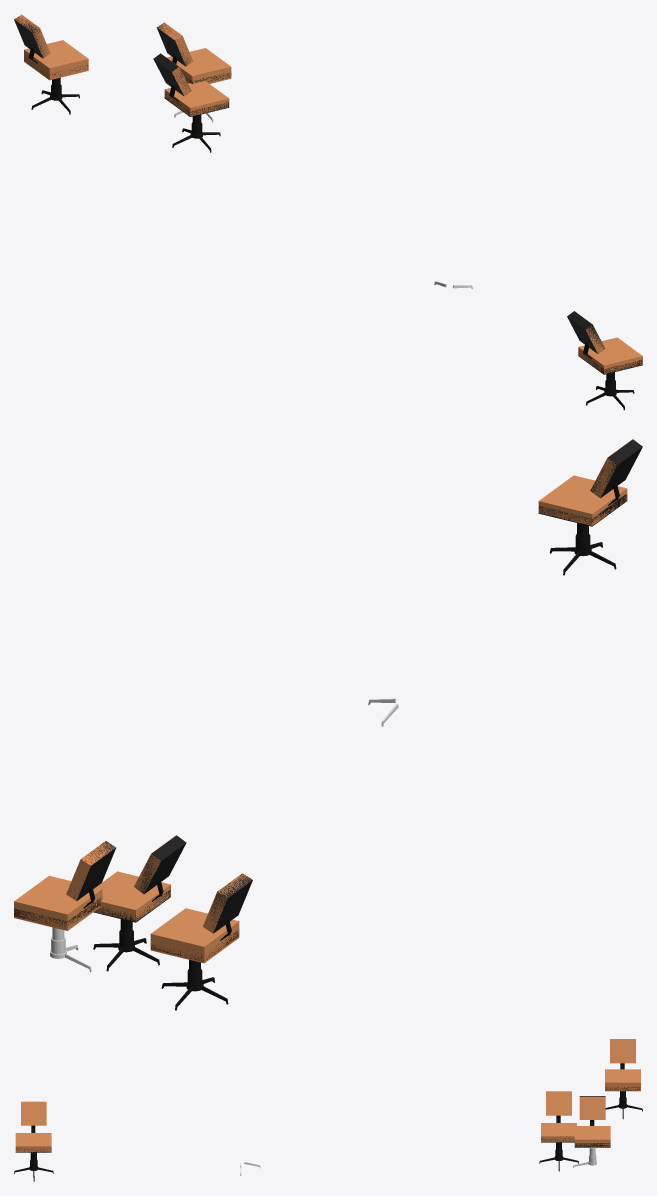
Rendered from kursi lab.glb.
The picture shows the model from 3 angles, top to bottom: view 1: azimuth 30°, elevation 25°; view 2: azimuth 150°, elevation 25°; view 3: azimuth 270°, elevation 25°; orthographic projection. The views are drawn at different scales.
Parts seen in each view (by area): view 1: Kubus.020, Kubus.002, Kubus.029, Kubus.011, Kubus.001, Kubus.019, Kubus.028; view 2: Kubus.020, Kubus.011, Kubus.002, Kubus.029, Kubus.019, Kubus.028, Kubus.001, Kubus.010, Kubus.009, Kubus.018; view 3: Kubus.020, Kubus.011, Kubus.002, Kubus.029, Kubus, Kubus.018, Kubus.009, Kubus.027.
Boxes of the visible parts, <box> form: Kubus.020: <box>24,40,88,80</box>; Kubus.002: <box>578,337,642,373</box>; Kubus.029: <box>164,81,229,116</box>; Kubus.011: <box>167,48,231,83</box>; Kubus.001: <box>567,311,604,353</box>; Kubus.019: <box>14,14,46,58</box>; Kubus.028: <box>153,53,190,95</box>; Kubus.020: <box>150,908,239,963</box>; Kubus.011: <box>14,875,102,930</box>; Kubus.002: <box>538,475,627,525</box>; Kubus.029: <box>94,871,170,921</box>; Kubus.019: <box>206,874,252,933</box>; Kubus.028: <box>136,835,186,893</box>; Kubus.001: <box>590,439,642,497</box>; Kubus.010: <box>67,841,116,901</box>; Kubus.009: <box>66,841,115,900</box>; Kubus.018: <box>203,873,250,933</box>; Kubus.020: <box>605,1069,640,1091</box>; Kubus.011: <box>574,1126,610,1147</box>; Kubus.002: <box>15,1133,51,1152</box>; Kubus.029: <box>541,1123,576,1142</box>; Kubus: <box>21,1101,46,1125</box>; Kubus.018: <box>610,1039,635,1063</box>; Kubus.009: <box>579,1096,605,1119</box>; Kubus.027: <box>546,1092,571,1115</box>.
Bounding box in the file's own units: 12.36 × 7.21 × 49.63.
